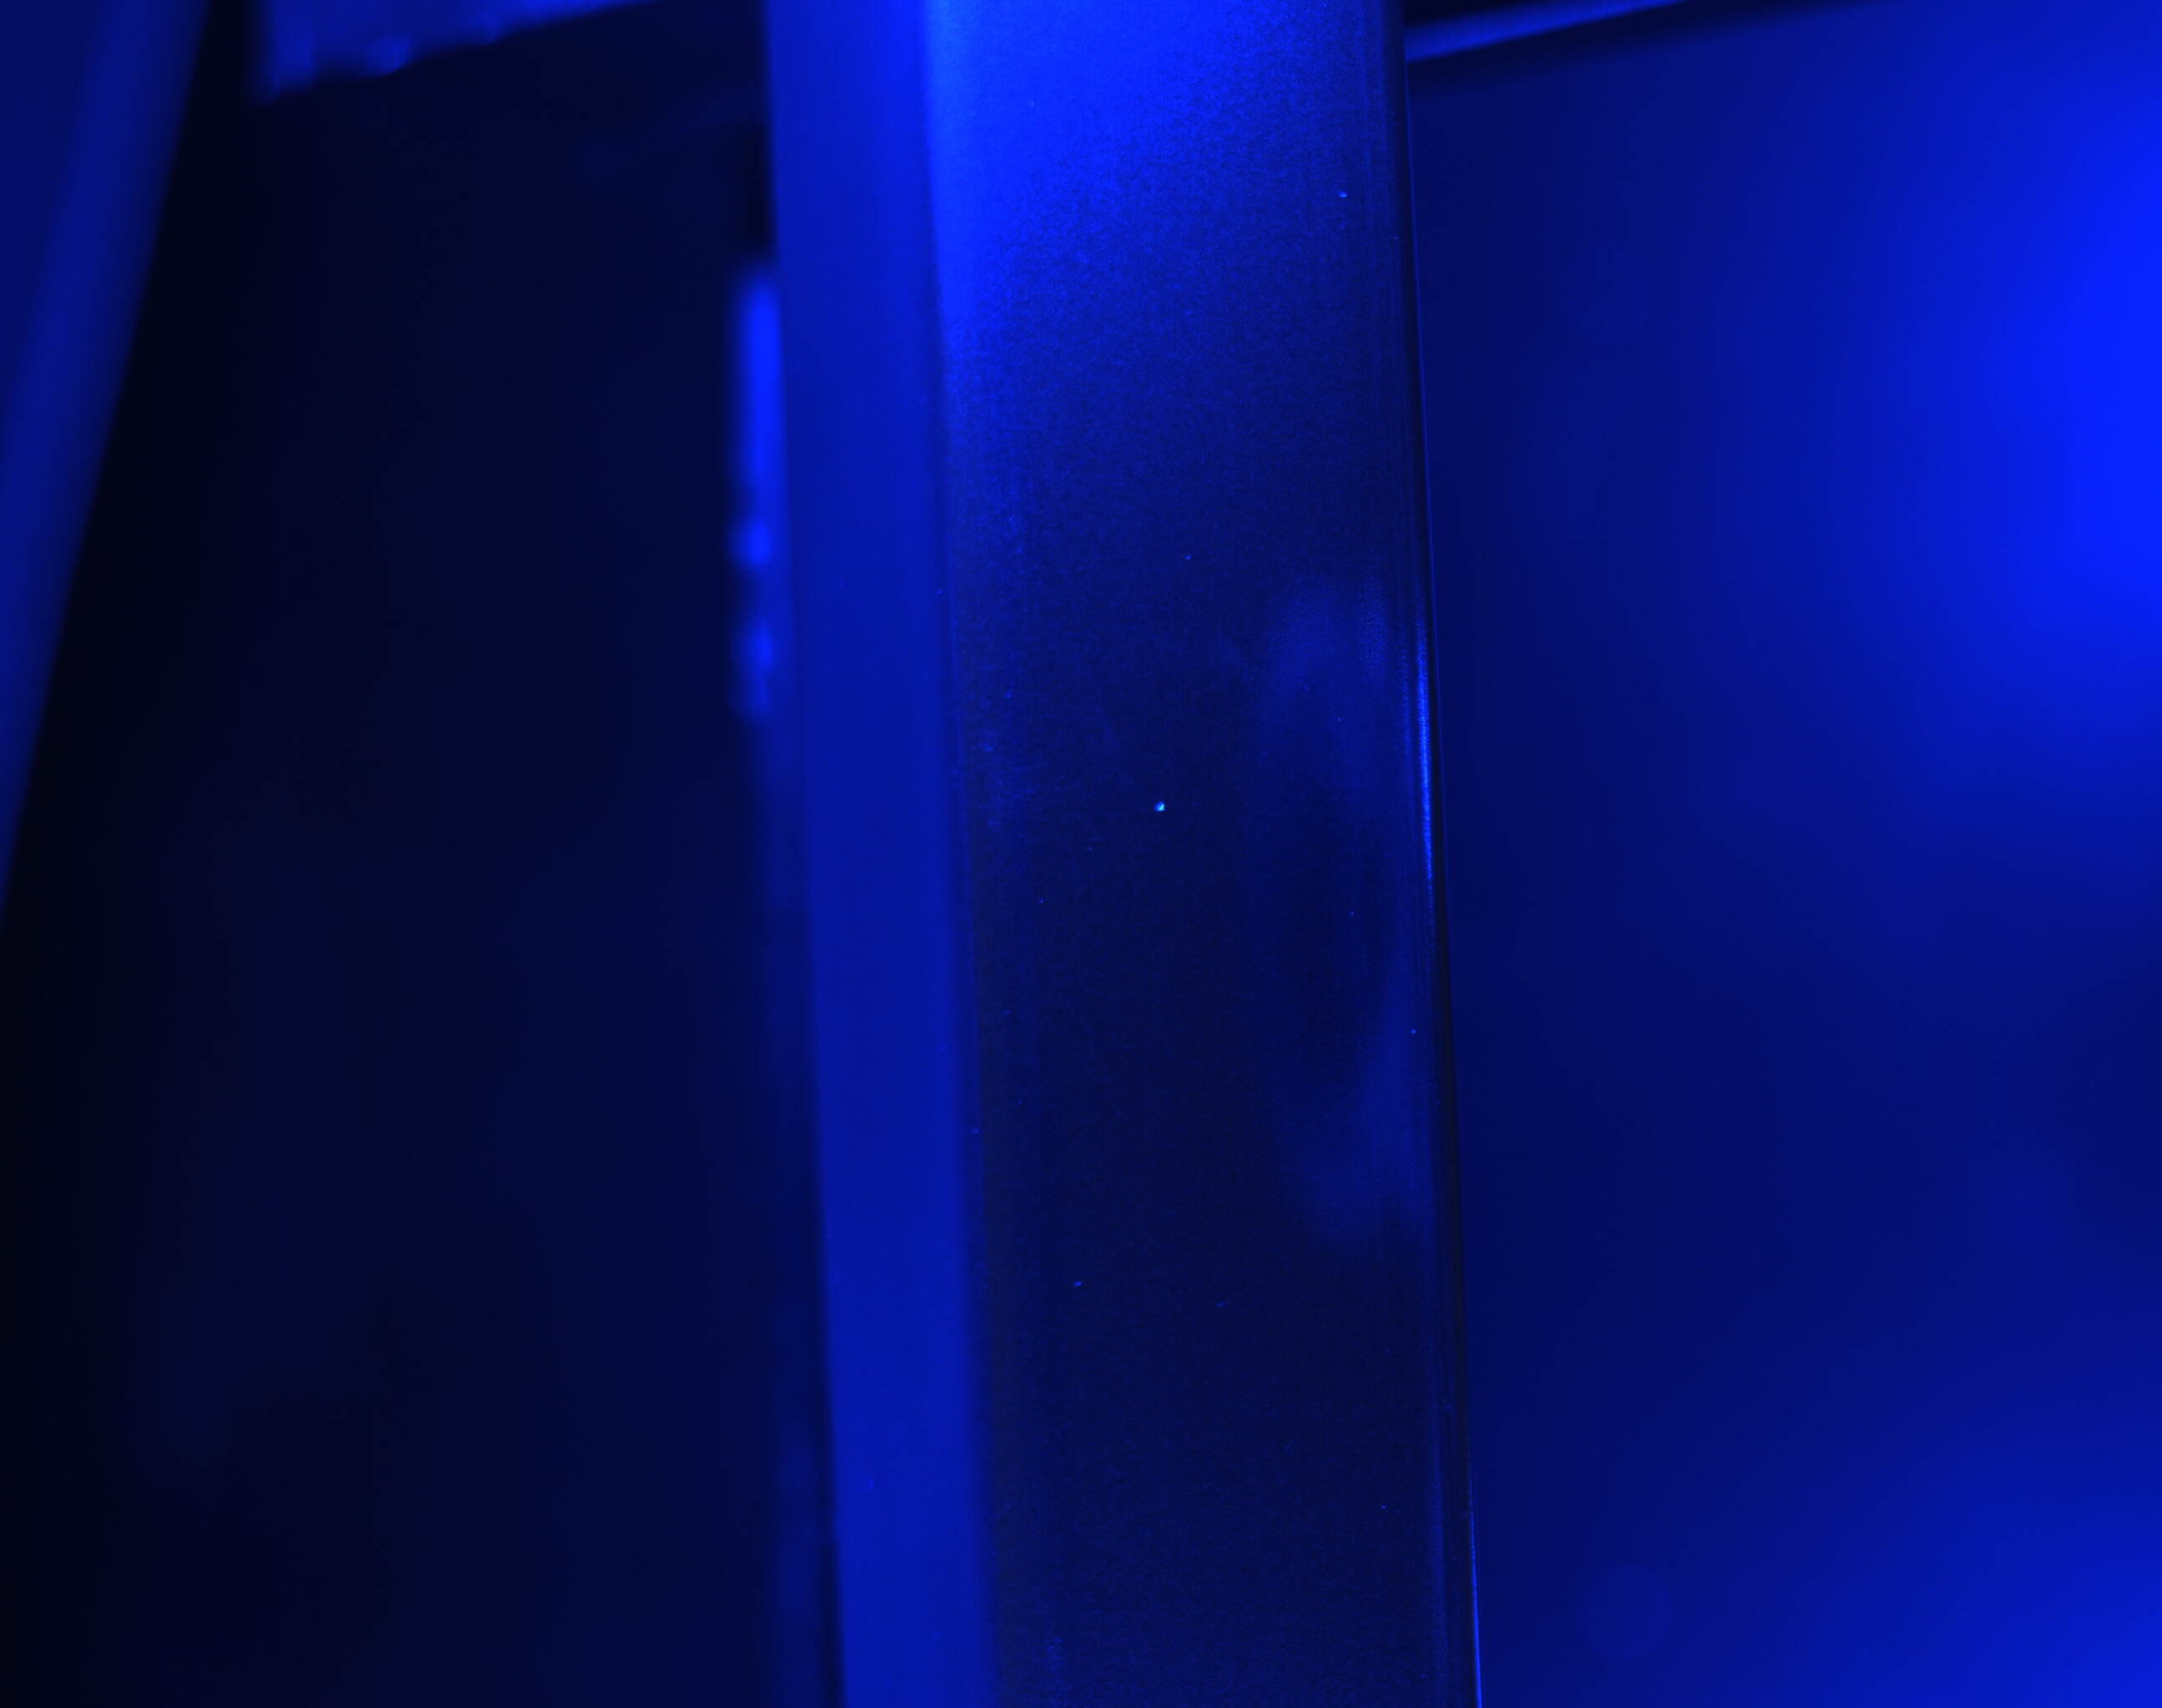NG: (1135, 785, 1200, 846)
